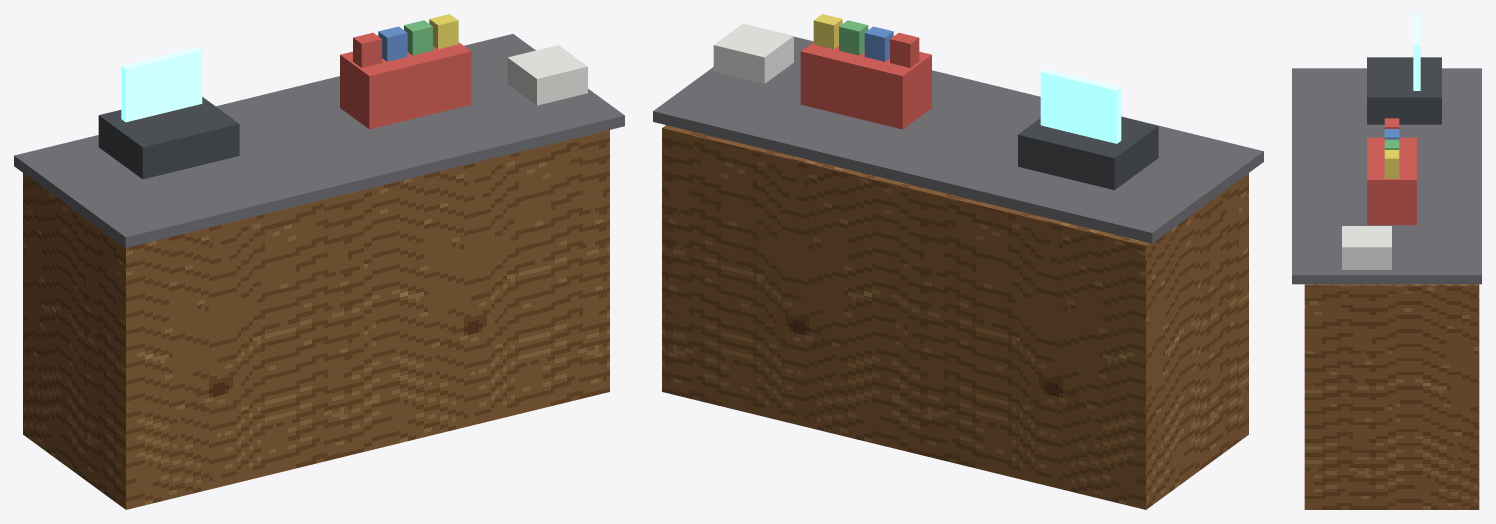
The model's file is ST_Counter.glb.
The picture shows the model from 3 angles, left to right: view 1: azimuth 30°, elevation 25°; view 2: azimuth 150°, elevation 25°; view 3: azimuth 270°, elevation 25°; orthographic projection. The views are drawn at different scales.
Parts seen in each view (by area): view 1: Counter; view 2: Counter; view 3: Counter.
Part boxes in pixels (x1,y1,x2,y2): Counter: (14, 14, 624, 509); Counter: (653, 14, 1263, 509); Counter: (1292, 14, 1481, 509).
Size of the model in its own units: 1.96 by 1.42 by 0.76.
Materials: 9 (1 with a texture image).
